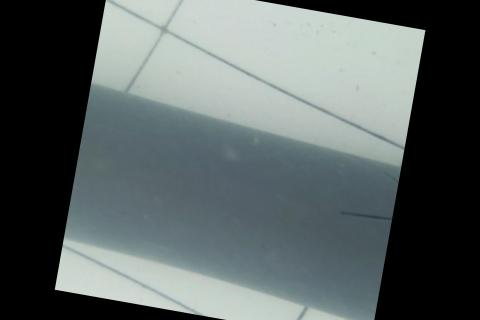keretakan: (337, 204, 393, 223), (383, 170, 400, 182)
